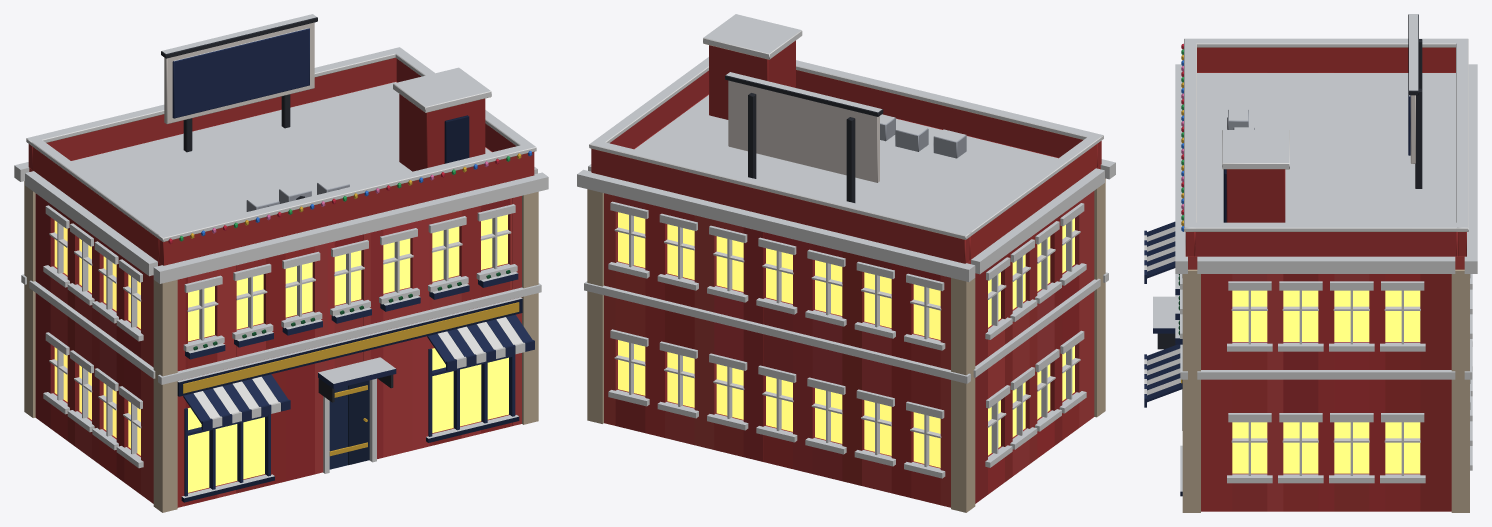
The model's file is PostOffice.glb.
3 renders of one model, left to right at view 1: azimuth 30°, elevation 25°; view 2: azimuth 150°, elevation 25°; view 3: azimuth 270°, elevation 25°, orthographic. The views are drawn at different scales.
Parts seen in each view (by area): view 1: PostOffice_Roof, PostOffice_Trim, PostOffice_Walls, PostOffice_Shopfront, PostOffice_Glow, PostOffice_Balconies, PostOffice_Lights; view 2: PostOffice_Roof, PostOffice_Walls, PostOffice_Trim, PostOffice_Glow; view 3: PostOffice_Roof, PostOffice_Walls, PostOffice_Trim, PostOffice_Glow, PostOffice_Shopfront, PostOffice_Lights.
Part boxes in pixels (left/top/right/bottom): PostOffice_Roof: left=26, top=14, right=536, bottom=265; PostOffice_Trim: left=14, top=162, right=548, bottom=512; PostOffice_Walls: left=29, top=81, right=521, bottom=507; PostOffice_Shopfront: left=177, top=297, right=534, bottom=473; PostOffice_Glow: left=54, top=214, right=508, bottom=492; PostOffice_Balconies: left=185, top=270, right=518, bottom=359; PostOffice_Lights: left=168, top=151, right=532, bottom=244; PostOffice_Roof: left=589, top=14, right=1103, bottom=263; PostOffice_Walls: left=604, top=94, right=1100, bottom=507; PostOffice_Trim: left=577, top=159, right=1115, bottom=512; PostOffice_Glow: left=618, top=212, right=1074, bottom=467; PostOffice_Roof: left=1184, top=14, right=1468, bottom=256; PostOffice_Walls: left=1188, top=72, right=1464, bottom=511; PostOffice_Trim: left=1175, top=64, right=1477, bottom=512; PostOffice_Glow: left=1232, top=290, right=1420, bottom=473; PostOffice_Shopfront: left=1144, top=221, right=1182, bottom=430; PostOffice_Lights: left=1181, top=43, right=1183, bottom=231.
Bounding box in the file's own units: 39.8 × 34.45 × 28.42.
